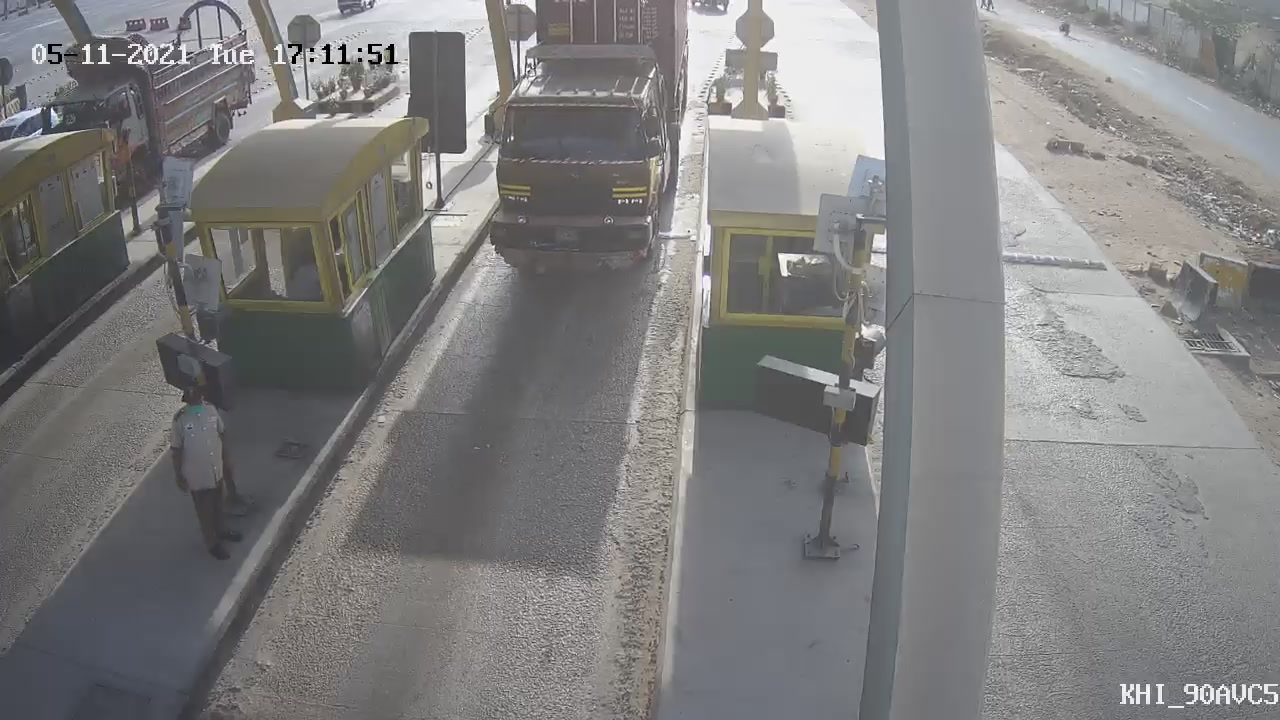F6: (459, 1, 713, 303)
